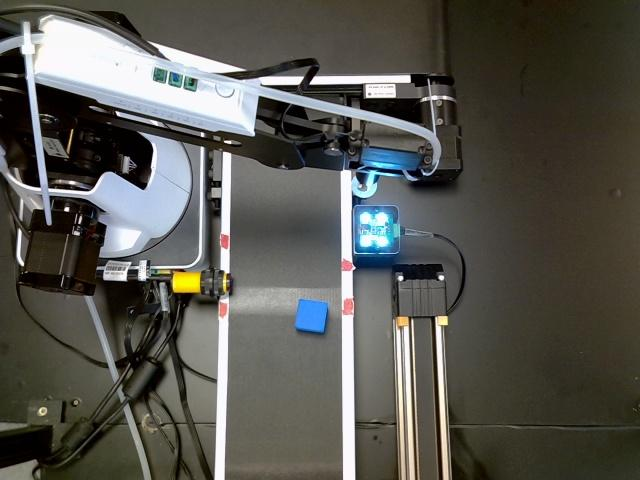cube: (295, 299, 329, 336)
